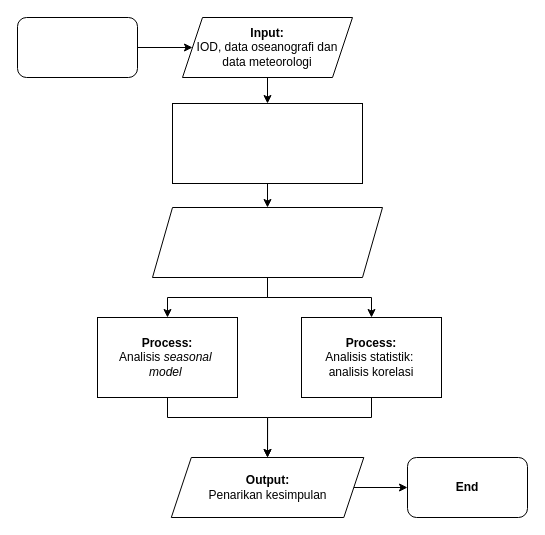
Some shapes in this 545 by 535 pixel diagram are drawn without their labels. The shapes that lost their labels are listed below. From the top down, each one's box as (x1, y1, x2, y2) in pixels, then its label:
(16, 16, 138, 78): Start
(172, 102, 362, 184): Process: Pemetaan dan penggambaran data
(152, 206, 382, 278): Output: Peta IOD, oseanografi, dan meteorologi
